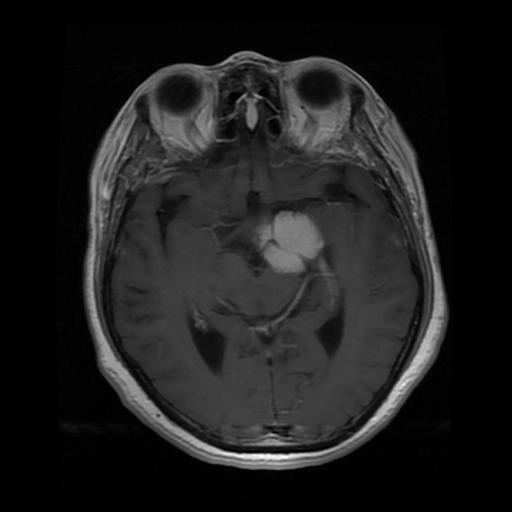Tumour-Pituitary: (230, 199, 397, 322)
